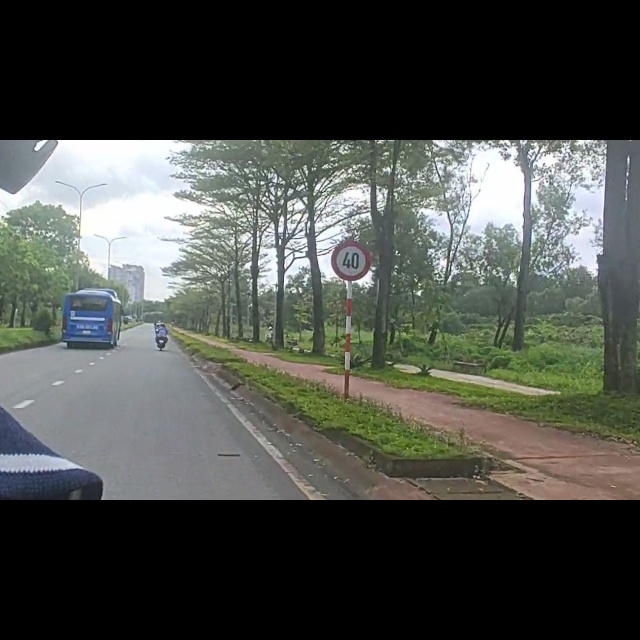Tốc độ tối đa cho phép 40km/h: (331, 241, 370, 280)
